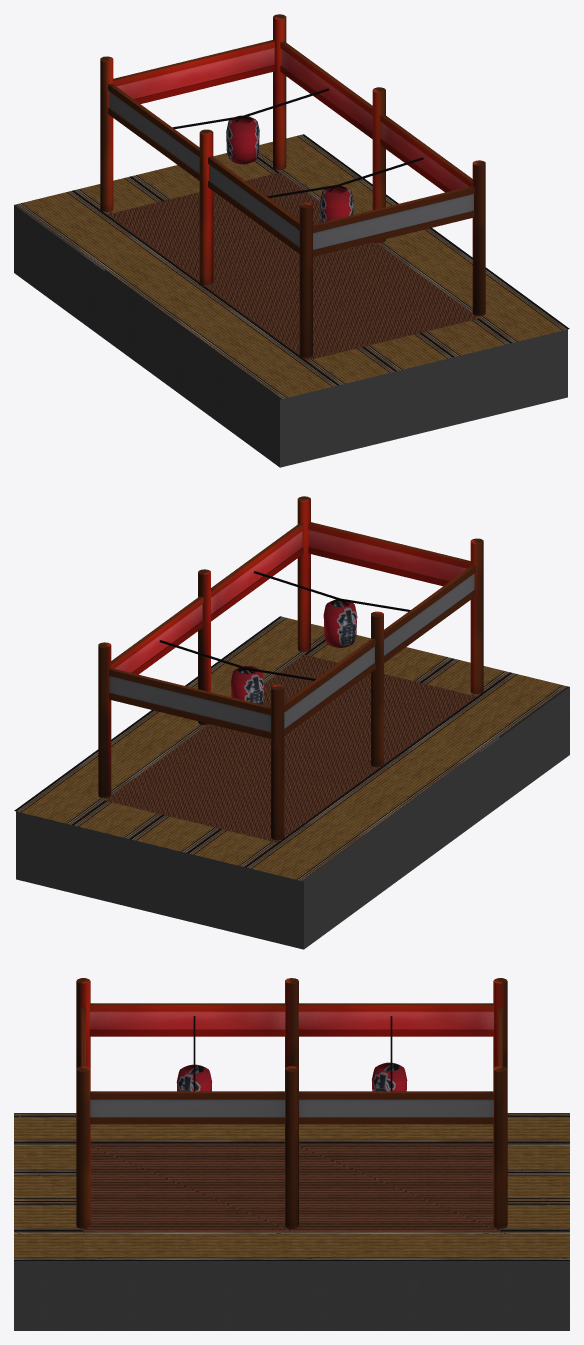
Rendered from interior floor unit.FBX.
The picture shows the model from 3 angles, top to bottom: view 1: azimuth 30°, elevation 25°; view 2: azimuth 150°, elevation 25°; view 3: azimuth 270°, elevation 25°; orthographic projection. The views are drawn at different scales.
Visible parts, largest first — view 1: floor base01, floor unit 02, bamboo floor unit01, temple int12, temple int10, temple int07, temple int06, temple int14, temple int09, temple int11, column, column_ncl1_4 (+6 smaller); view 2: floor base01, floor unit 02, bamboo floor unit01, temple int12, temple int09, temple int07, temple int11, temple int10, temple int06, temple int14, column_ncl1_3, column_ncl1_2 (+6 smaller); view 3: floor base01, floor unit 02, bamboo floor unit01, temple int11, temple int10, temple int07, temple int06, column_ncl1_1, column_ncl1_2, colum, column_ncl1_4, column (+3 smaller).
Boxes of the visible parts, x1,y1,x2,y2 form: floor base01: (14, 204, 567, 467); floor unit 02: (16, 134, 569, 398); bamboo floor unit01: (107, 172, 478, 360); temple int12: (313, 186, 474, 256); temple int10: (208, 156, 299, 253); temple int07: (108, 83, 199, 180); temple int06: (280, 41, 372, 138); temple int14: (113, 41, 274, 99); temple int09: (113, 40, 274, 103); temple int11: (380, 114, 472, 192); column: (299, 202, 312, 358); column_ncl1_4: (199, 129, 213, 285); floor base01: (16, 680, 569, 949); floor unit 02: (14, 616, 567, 880); bamboo floor unit01: (105, 654, 476, 842); temple int12: (308, 522, 470, 586); temple int09: (109, 668, 270, 733); temple int07: (284, 638, 375, 735); temple int11: (211, 523, 303, 621); temple int10: (384, 565, 475, 662); temple int06: (111, 596, 203, 674); temple int14: (110, 668, 270, 738); column_ncl1_3: (271, 684, 284, 840); column_ncl1_2: (98, 642, 111, 797); floor base01: (14, 1113, 569, 1330); floor unit 02: (14, 1114, 569, 1260); bamboo floor unit01: (83, 1143, 500, 1231); temple int11: (90, 1091, 285, 1124); temple int10: (89, 1003, 285, 1036); temple int07: (298, 1003, 494, 1036); temple int06: (298, 1091, 493, 1124); column_ncl1_1: (76, 1066, 90, 1228); column_ncl1_2: (493, 1066, 507, 1228); colum: (285, 1066, 298, 1228); column_ncl1_4: (285, 978, 298, 1068); column: (76, 978, 90, 1068).
Size of the model in its own units: 357 by 263 by 567.
Materials: 7 (7 with a texture image).
